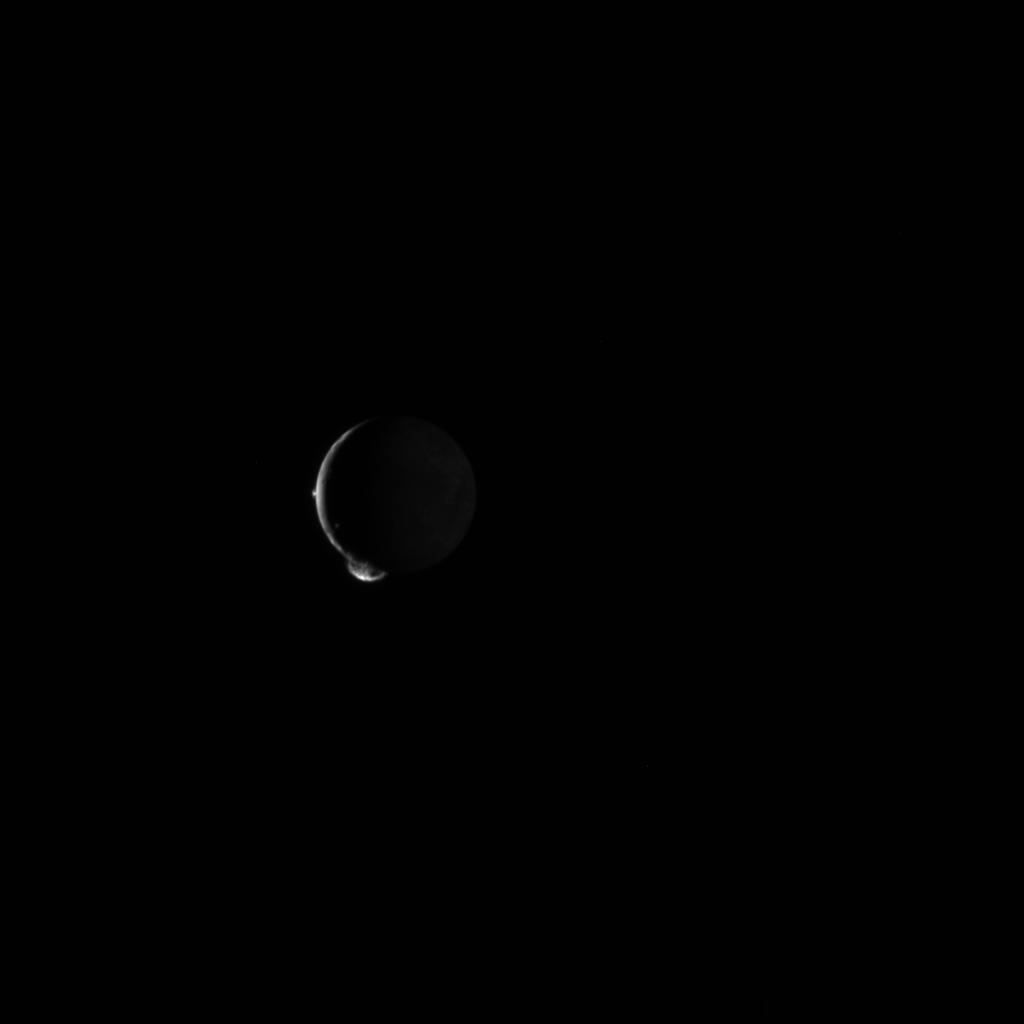plumes: (344, 554, 388, 584), (310, 485, 319, 501)
